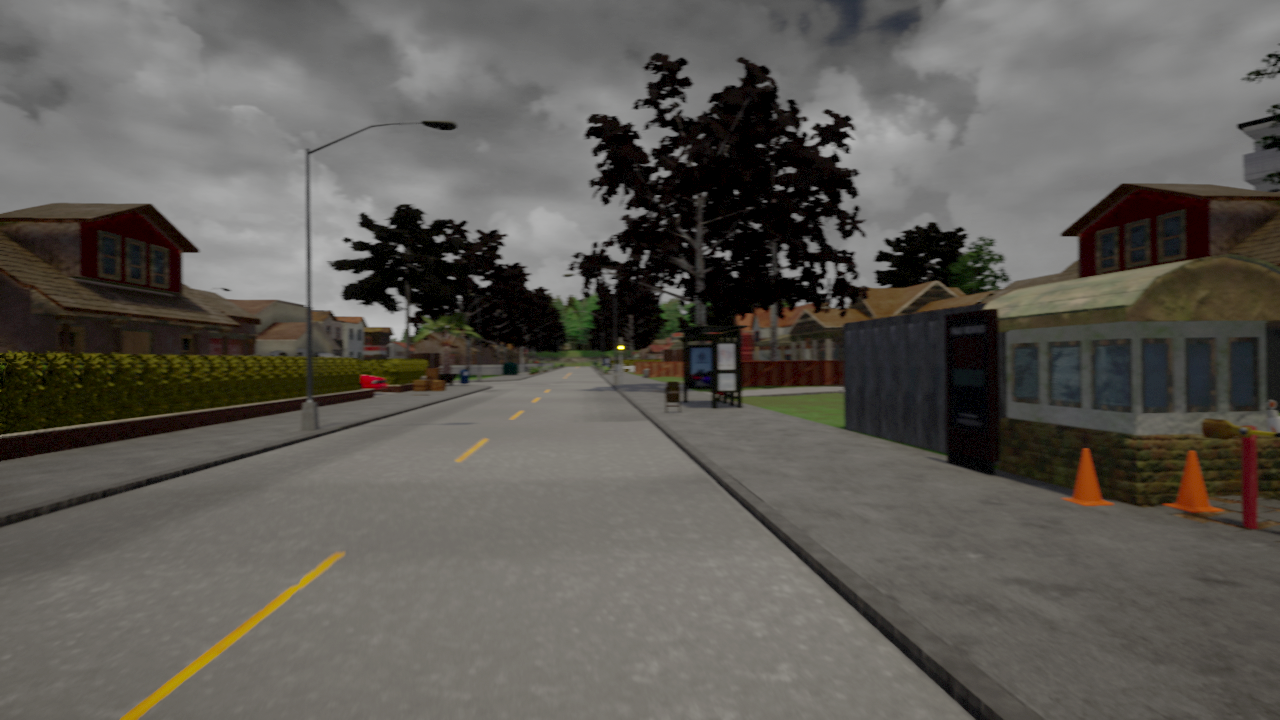yellow: (615, 340, 625, 355)
